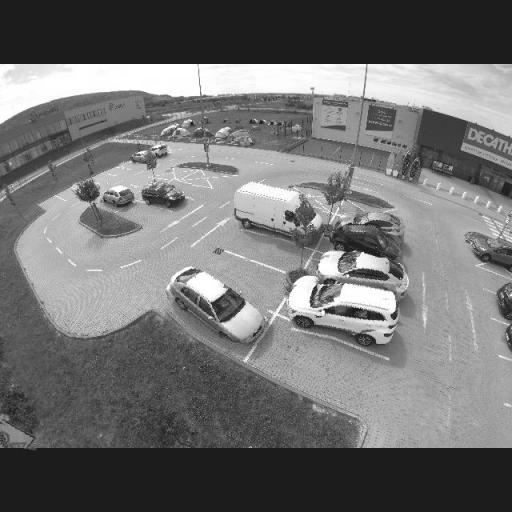busy: (165, 266, 272, 342), (286, 272, 400, 340), (230, 184, 324, 246), (314, 246, 406, 296), (330, 222, 398, 258), (342, 206, 404, 240), (140, 179, 188, 210), (470, 236, 512, 271), (0, 416, 39, 449), (100, 184, 136, 208), (72, 180, 104, 202), (498, 285, 512, 318), (150, 144, 172, 158), (129, 152, 149, 164)
free: (286, 346, 340, 388), (214, 261, 258, 291), (242, 237, 278, 259), (176, 180, 198, 200), (128, 205, 155, 221), (59, 187, 77, 200), (93, 174, 110, 184), (120, 160, 136, 170), (109, 167, 123, 177)
